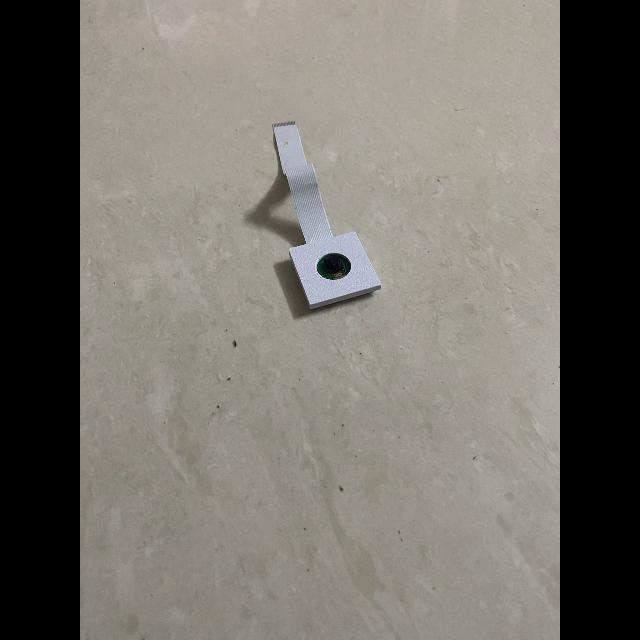RASPBERY PI CAM ENCLOSURE: (288, 231, 382, 309)
